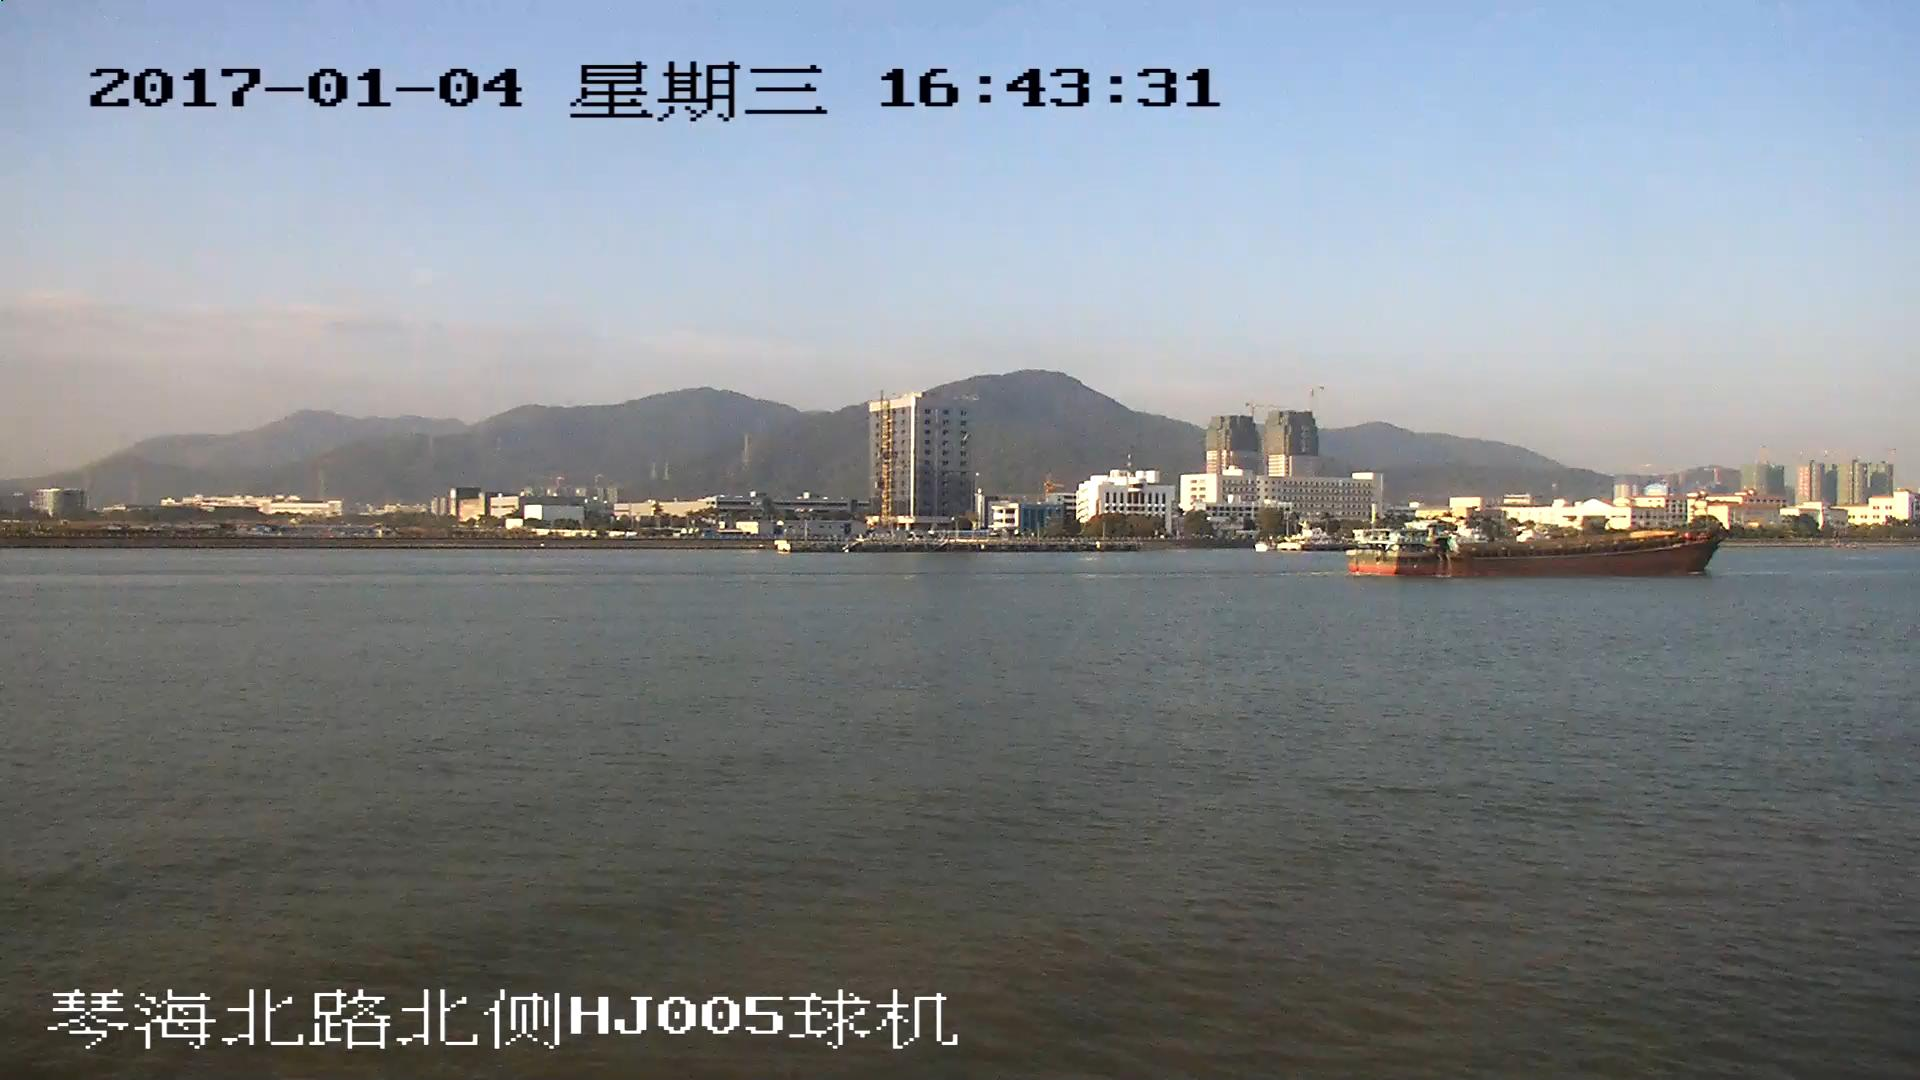bulk cargo carrier: (1349, 527, 1729, 577)
